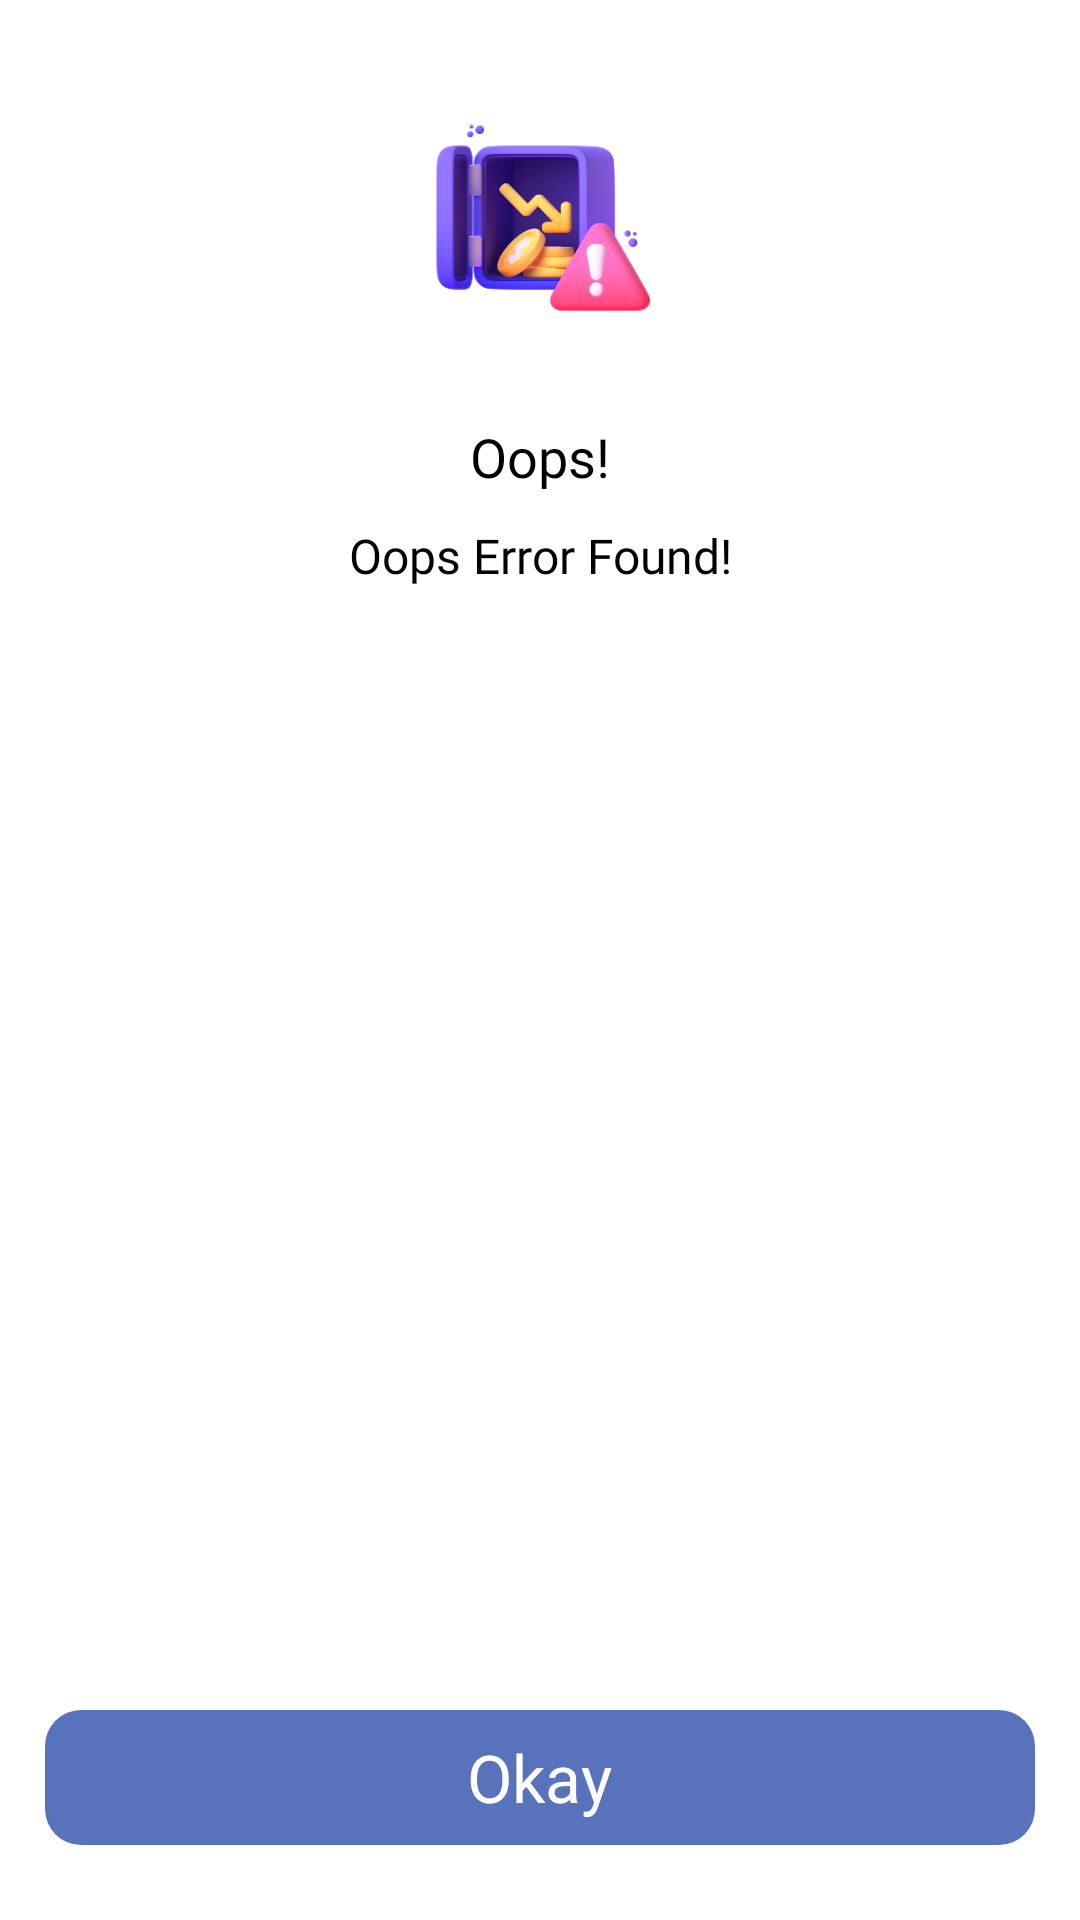

Screen size 1080 × 1920. Icon name, then its center in pixels as (x=x, y=y):
error: (x=543, y=217)
